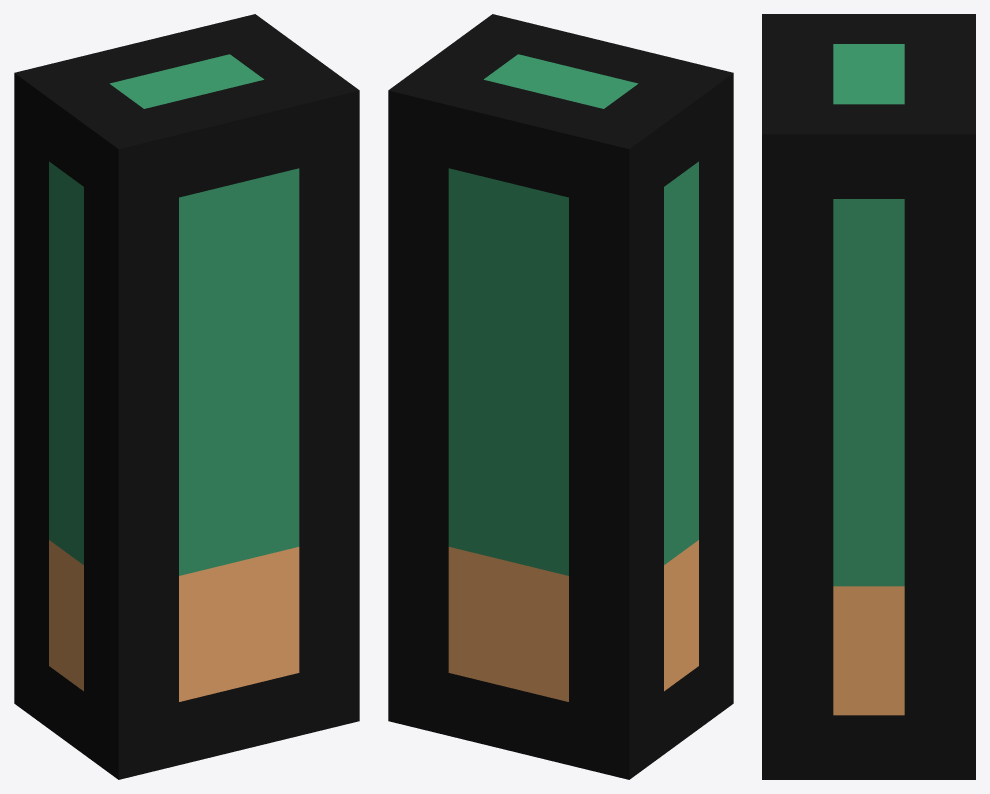
File: PlayerArm.obj
3 views of the same model, side by side, from view 1: azimuth 30°, elevation 25°; view 2: azimuth 150°, elevation 25°; view 3: azimuth 270°, elevation 25° (orthographic). The views are drawn at different scales.
Parts seen in each view (by area): view 1: Player; view 2: Player; view 3: Player.
Boxes of the visible parts, x1,y1,x2,y2 form: Player: (14,14,359,779); Player: (388,14,733,779); Player: (762,14,975,779).
Size of the model in its own units: 0.4 by 1 by 0.3.
Materials: 1 (1 with a texture image).
